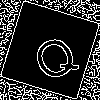Q: (25, 25, 83, 86)
